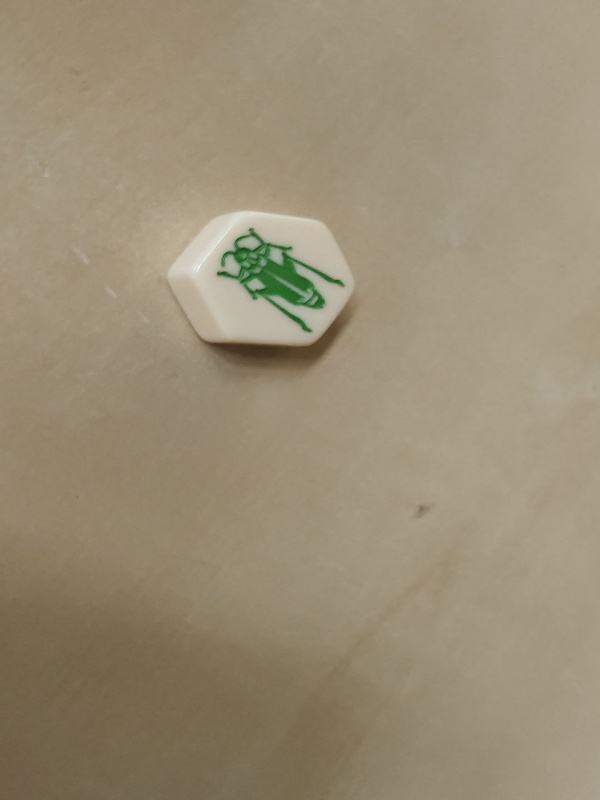white_grasshopper: (167, 209, 360, 348)
